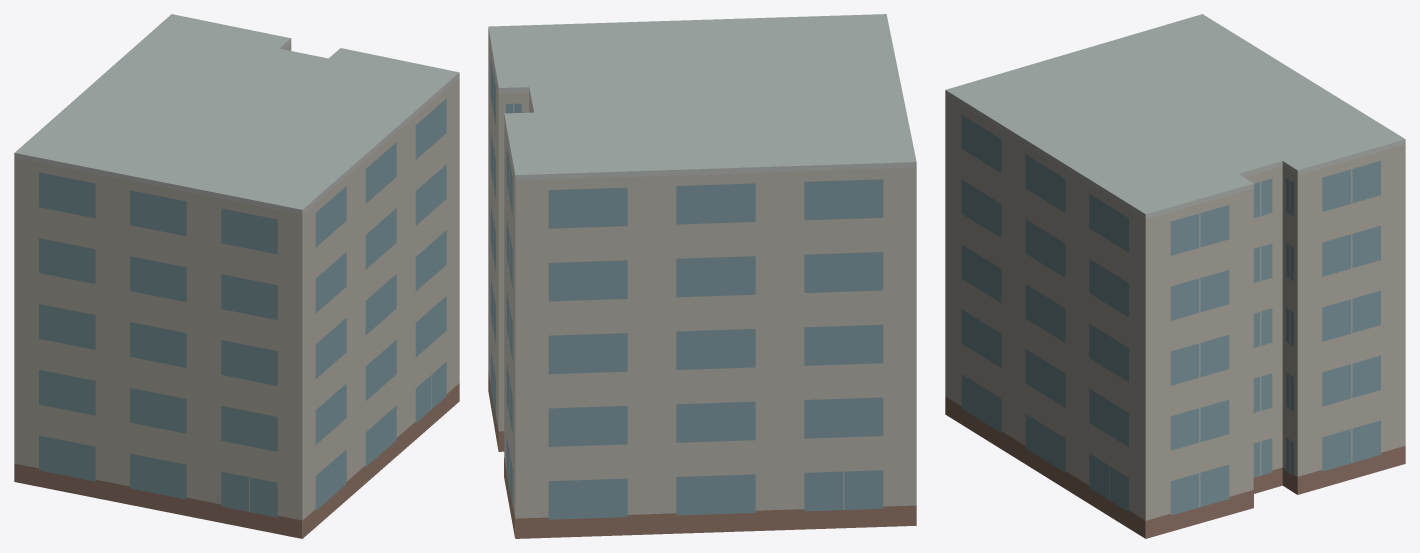
File: survey-upis-32996186.glb
3 views of the same model, side by side, from view 1: azimuth 30°, elevation 25°; view 2: azimuth 150°, elevation 25°; view 3: azimuth 270°, elevation 25° (orthographic). The views are drawn at different scales.
Parts seen in each view (by area): view 1: survey-upis-32996186.tmp; view 2: survey-upis-32996186.tmp; view 3: survey-upis-32996186.tmp.
Boxes of the visible parts, x1=… form: survey-upis-32996186.tmp: x1=14, y1=14, x2=459, y2=538; survey-upis-32996186.tmp: x1=488, y1=14, x2=916, y2=538; survey-upis-32996186.tmp: x1=945, y1=14, x2=1405, y2=538.
Size of the model in its own units: 20.79 by 15.7 by 20.19.
